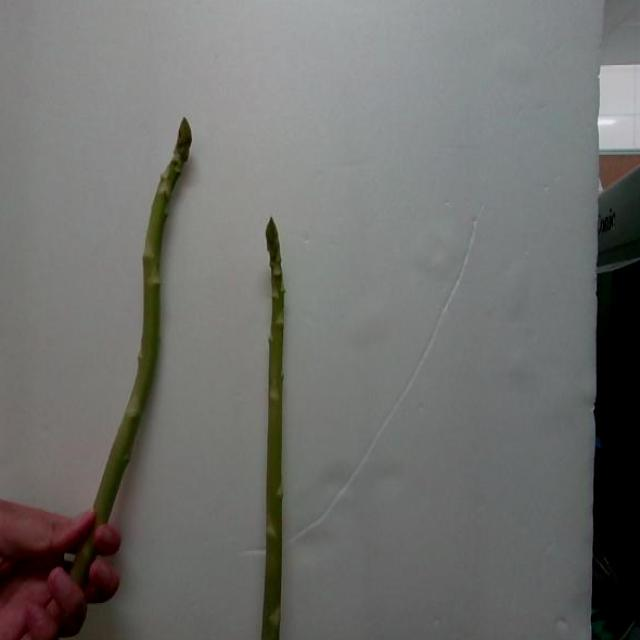aspargus: (93, 120, 191, 532), (261, 221, 288, 640)
